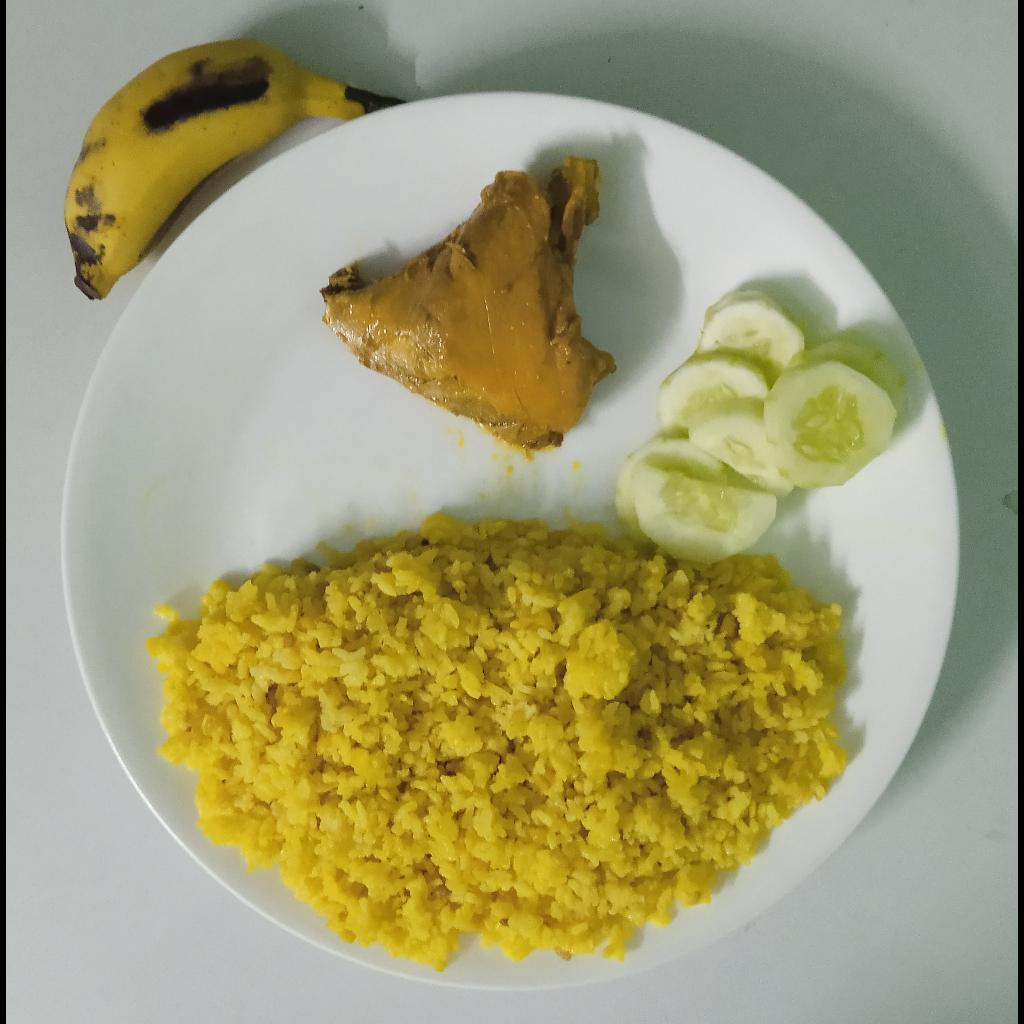banana: (64, 38, 411, 301)
chicken: (321, 156, 622, 450)
cucumber: (616, 291, 909, 564)
khichuri: (148, 516, 855, 976)
